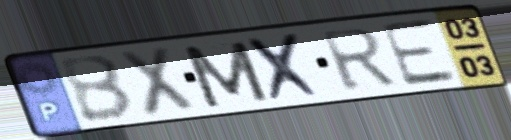B: (55, 52, 138, 125)
E: (376, 16, 461, 89)
M: (178, 38, 274, 111)
R: (317, 26, 401, 94)
X: (241, 30, 329, 105), (115, 43, 200, 120)
